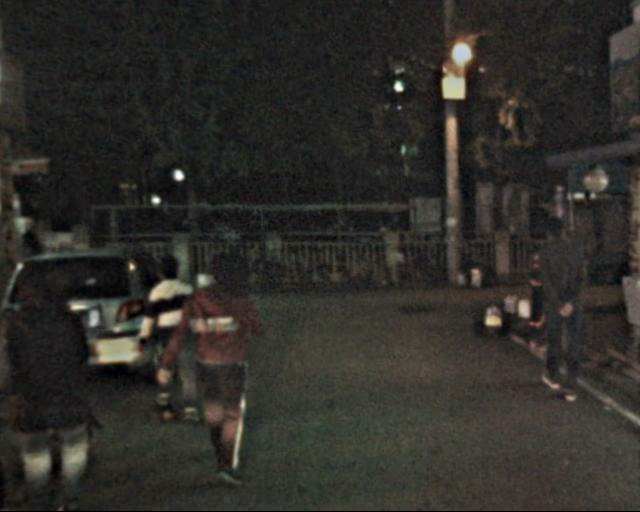person: (14, 250, 109, 511), (172, 243, 265, 482), (522, 208, 594, 413), (132, 244, 200, 432)
